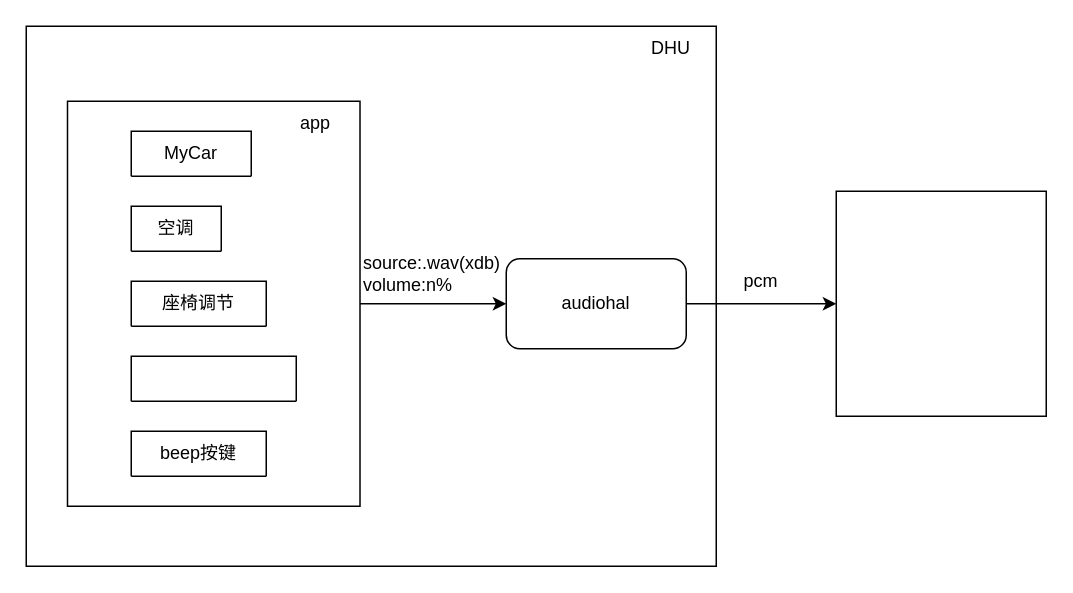
The diagram is 1073 pixels wide and 593 high, and some of its shapes have lost their labels. The centre of each missing label's shape, as x and y in pixels:
公放: (x=940, y=303)
蓝牙电话拨号: (x=213, y=378)
